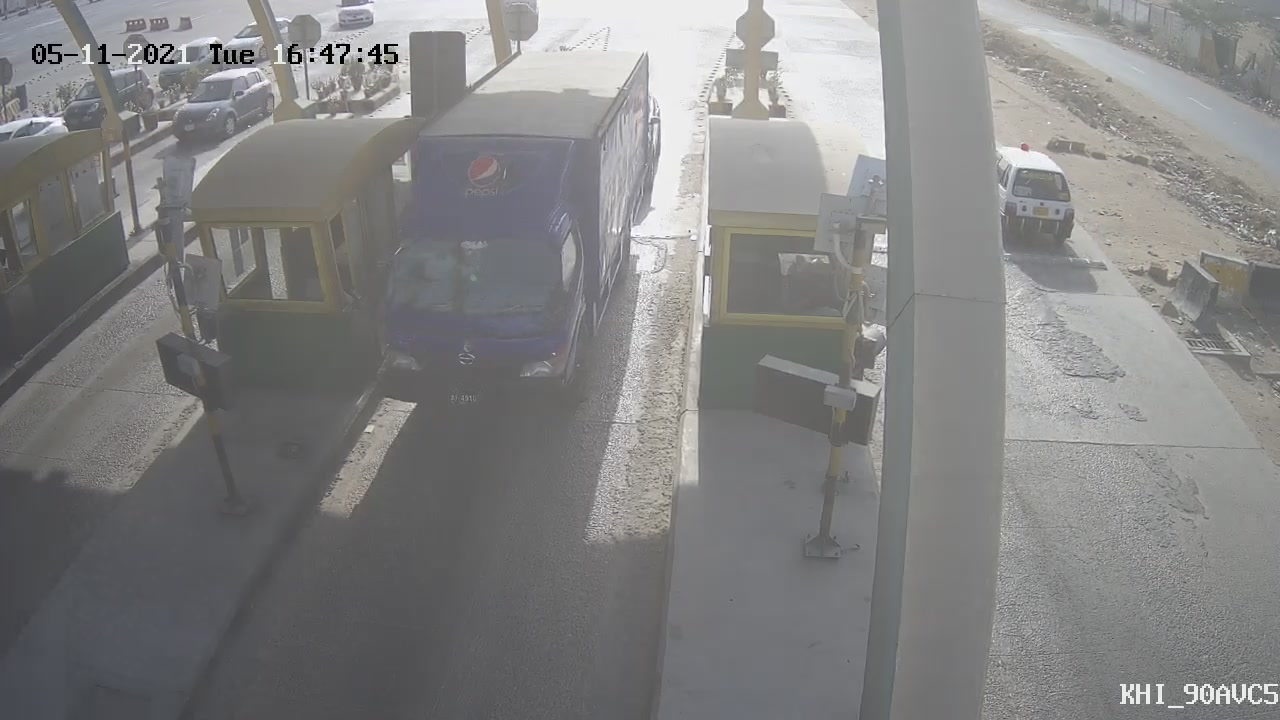F5: (321, 40, 685, 439)
